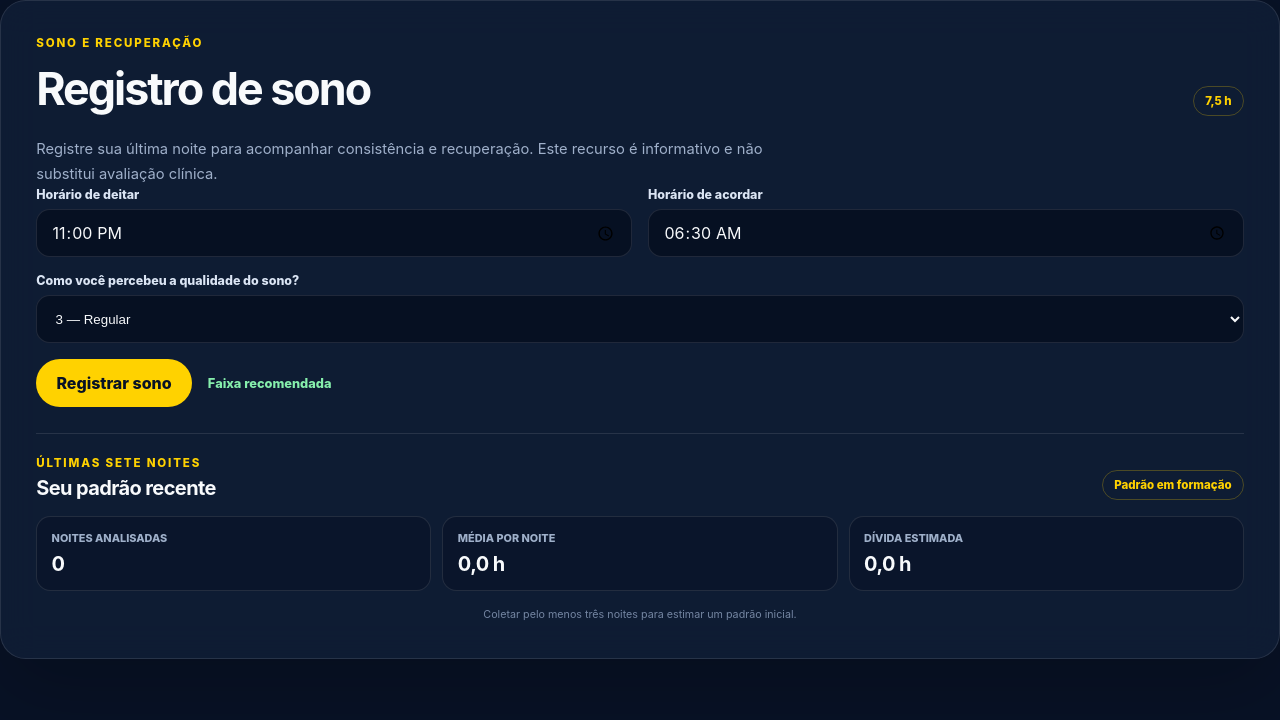
Scenario: SleepTrackingPanel › registers a manual sleep record that remains in the scoped repository
This screenshot has width=1280, height=720.
Replace the text in the time field labelled "Horário de deitar" with "23:30" at (334, 233), box x1=36 y1=209 x2=632 y2=257
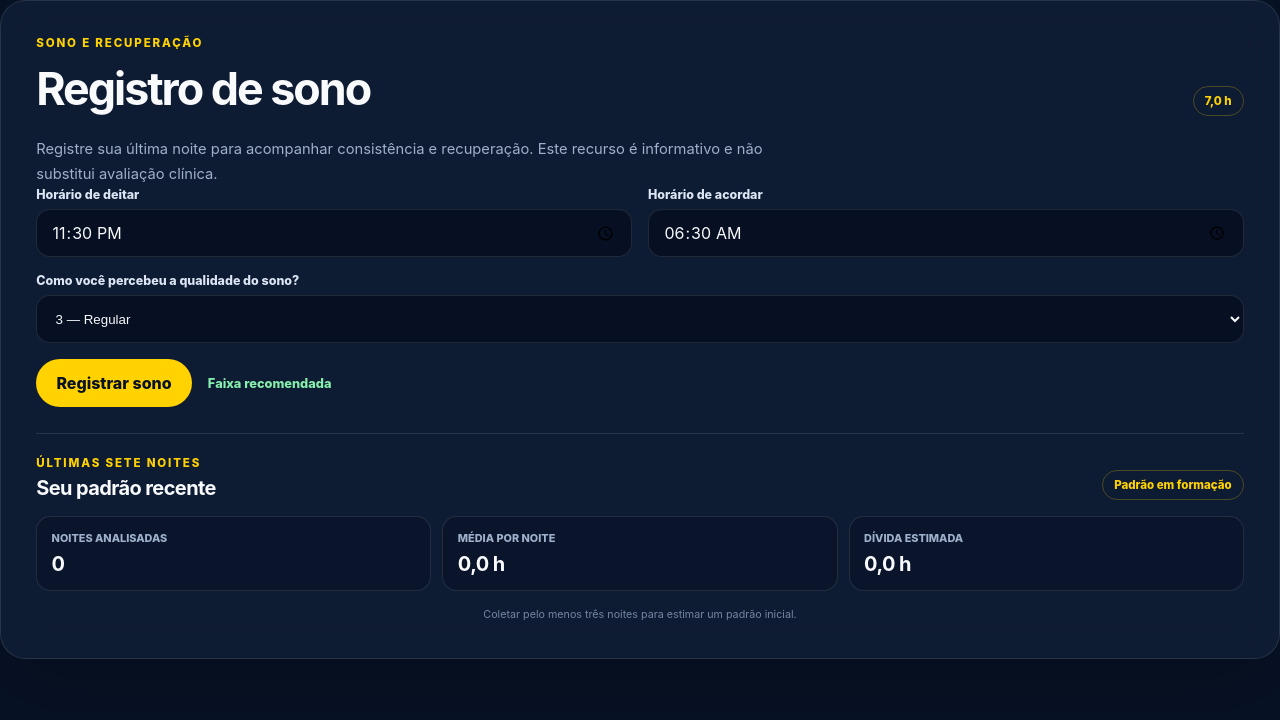
Replace the text in the time field labelled "Horário de acordar" with "07:00" at (946, 233), box x1=648 y1=209 x2=1244 y2=257
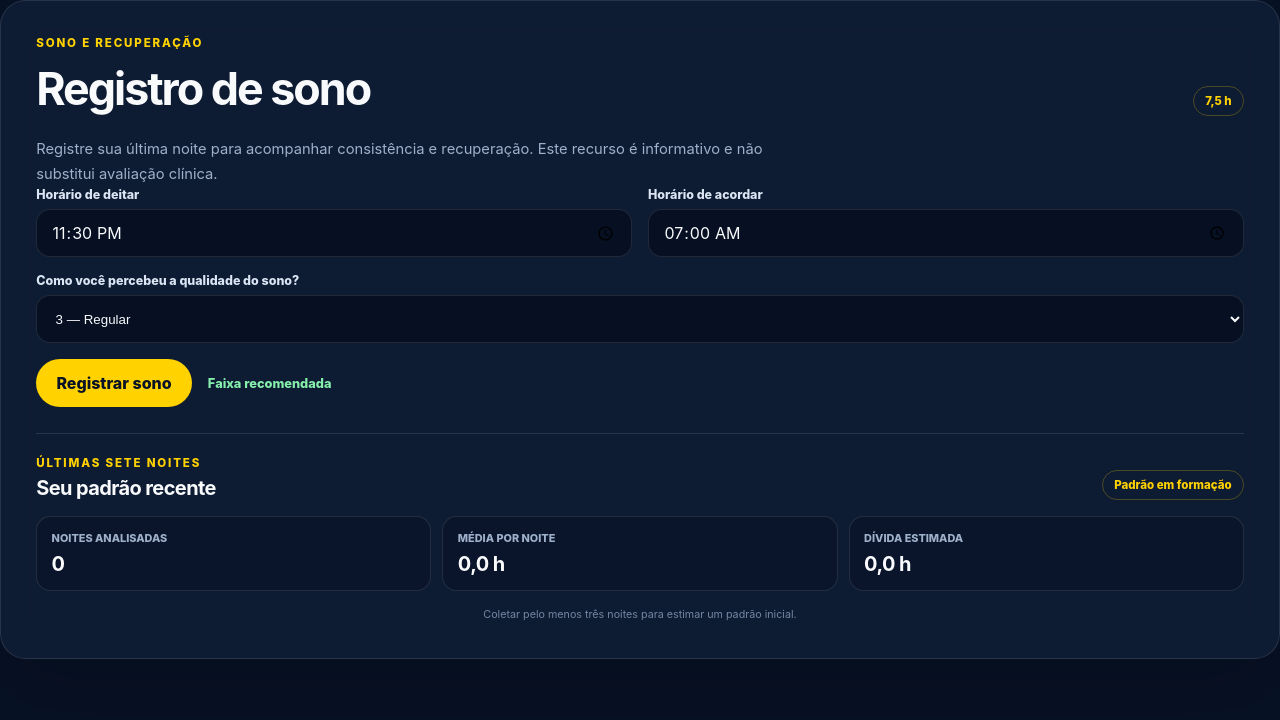
Click the button "Registrar sono".
click(114, 383)  # box x1=36 y1=359 x2=192 y2=407
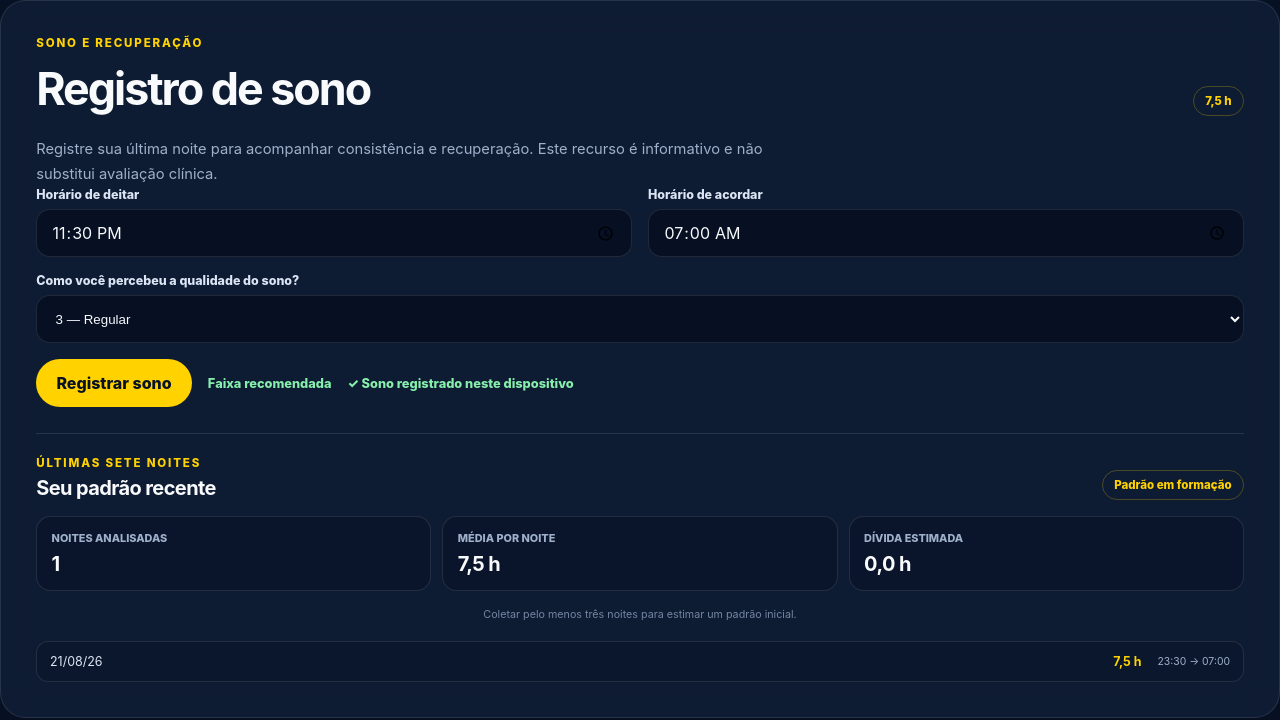
Check: the message shows "Sono registrado", box x1=348 y1=376 x2=574 y2=391
